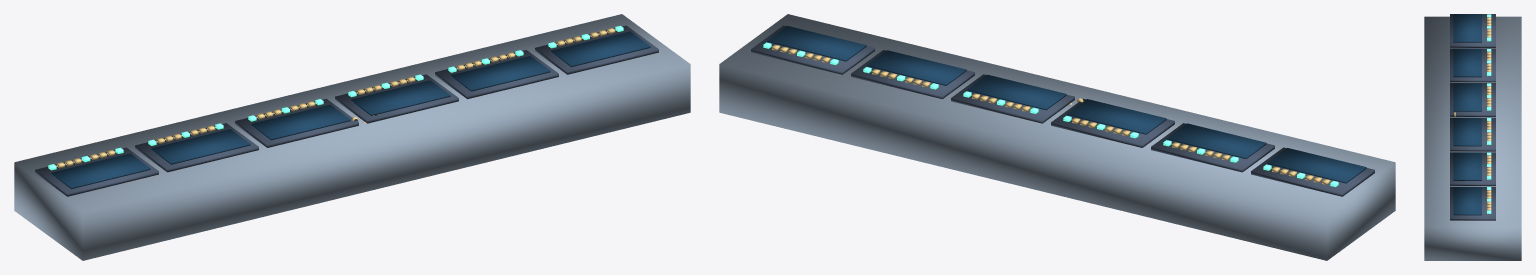
The model's file is 06_L91_NavigationCommandWorkstation.glb.
The picture shows the model from 3 angles, left to right: view 1: azimuth 30°, elevation 25°; view 2: azimuth 150°, elevation 25°; view 3: azimuth 270°, elevation 25°; orthographic projection. The views are drawn at different scales.
Visible parts, largest first — view 1: L91_NavigationCommandWorkstat_Part_0000, L91_NavigationCommandWorkstat_Part_0002, L91_NavigationCommandWorkstat_Part_0001, L91_NavigationCommandWorkstat_Part_0003, L91_NavigationCommandWorkstat_Part_0005, L91_NavigationCommandWorkstat_Part_0006; view 2: L91_NavigationCommandWorkstat_Part_0000, L91_NavigationCommandWorkstat_Part_0002, L91_NavigationCommandWorkstat_Part_0001, L91_NavigationCommandWorkstat_Part_0003, L91_NavigationCommandWorkstat_Part_0005, L91_NavigationCommandWorkstat_Part_0006; view 3: L91_NavigationCommandWorkstat_Part_0000, L91_NavigationCommandWorkstat_Part_0002, L91_NavigationCommandWorkstat_Part_0001, L91_NavigationCommandWorkstat_Part_0003, L91_NavigationCommandWorkstat_Part_0006, L91_NavigationCommandWorkstat_Part_0005.
Part boxes in pixels (box(x1,y1,x2,y2)): L91_NavigationCommandWorkstat_Part_0000: box(14, 14, 690, 260); L91_NavigationCommandWorkstat_Part_0002: box(51, 31, 650, 188); L91_NavigationCommandWorkstat_Part_0001: box(35, 25, 658, 196); L91_NavigationCommandWorkstat_Part_0003: box(48, 34, 589, 170); L91_NavigationCommandWorkstat_Part_0005: box(56, 103, 306, 168); L91_NavigationCommandWorkstat_Part_0006: box(307, 32, 598, 107); L91_NavigationCommandWorkstat_Part_0000: box(719, 14, 1395, 260); L91_NavigationCommandWorkstat_Part_0002: box(767, 26, 1366, 183); L91_NavigationCommandWorkstat_Part_0001: box(751, 25, 1374, 196); L91_NavigationCommandWorkstat_Part_0003: box(797, 50, 1338, 187); L91_NavigationCommandWorkstat_Part_0005: box(1080, 119, 1330, 184); L91_NavigationCommandWorkstat_Part_0006: box(788, 48, 1080, 123); L91_NavigationCommandWorkstat_Part_0000: box(1424, 16, 1521, 260); L91_NavigationCommandWorkstat_Part_0002: box(1453, 14, 1481, 215); L91_NavigationCommandWorkstat_Part_0001: box(1450, 14, 1495, 220); L91_NavigationCommandWorkstat_Part_0003: box(1487, 14, 1491, 201); L91_NavigationCommandWorkstat_Part_0006: box(1487, 103, 1491, 204); L91_NavigationCommandWorkstat_Part_0005: box(1487, 17, 1491, 103).
Size of the model in its own units: 13.8 by 1.26 by 2.7.
